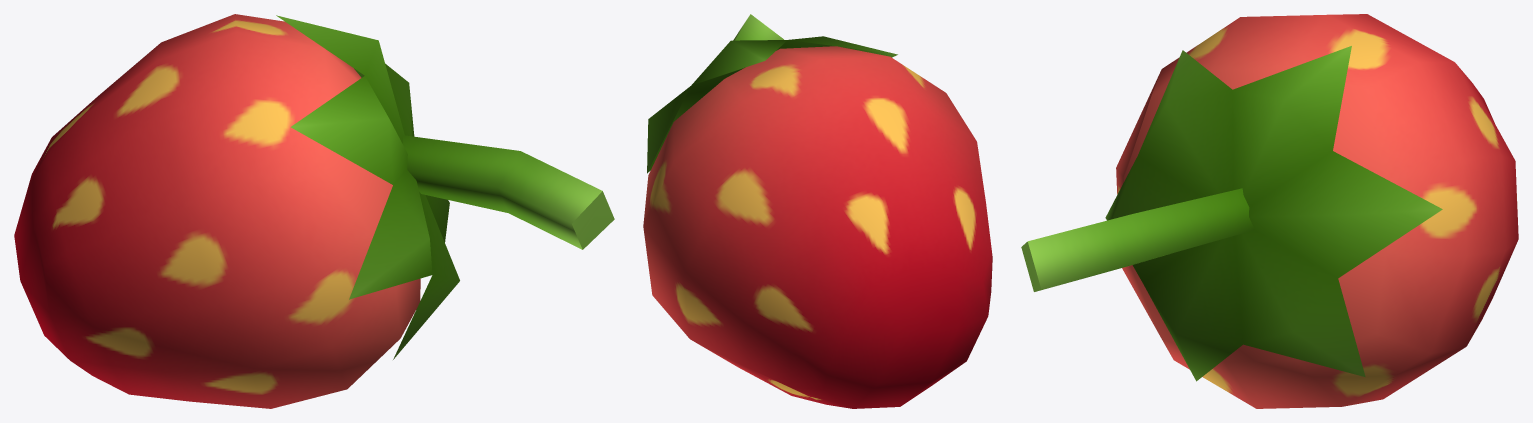
Rendered from m_GermanCheeseCake01_Deco.fbx.
The picture shows the model from 3 angles, left to right: view 1: azimuth 30°, elevation 25°; view 2: azimuth 150°, elevation 25°; view 3: azimuth 270°, elevation 25°; orthographic projection. The views are drawn at different scales.
Visible parts, largest first — view 1: m_GermanCheeseCake01_Deco; view 2: m_GermanCheeseCake01_Deco; view 3: m_GermanCheeseCake01_Deco.
Part boxes in pixels (x1,y1,x2,y2): m_GermanCheeseCake01_Deco: (14, 14, 614, 408); m_GermanCheeseCake01_Deco: (643, 14, 992, 408); m_GermanCheeseCake01_Deco: (1021, 14, 1518, 408).
Bounding box in the file's own units: 7.45 × 5.92 × 7.21.
